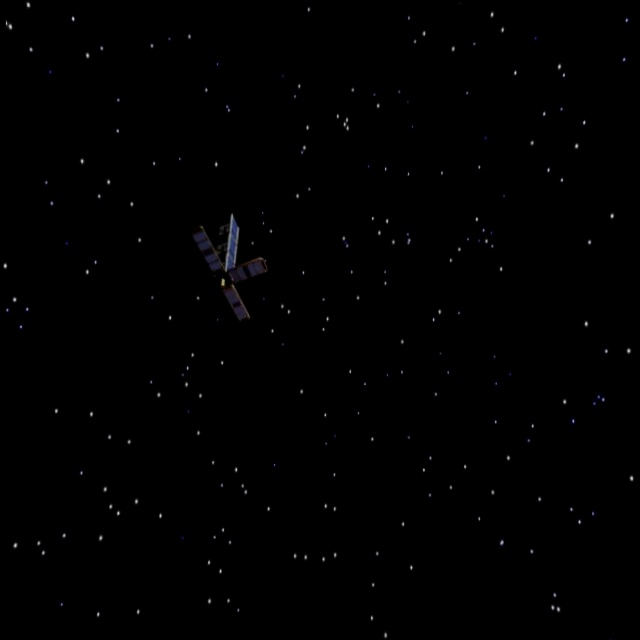satellite: (186, 201, 274, 327)
